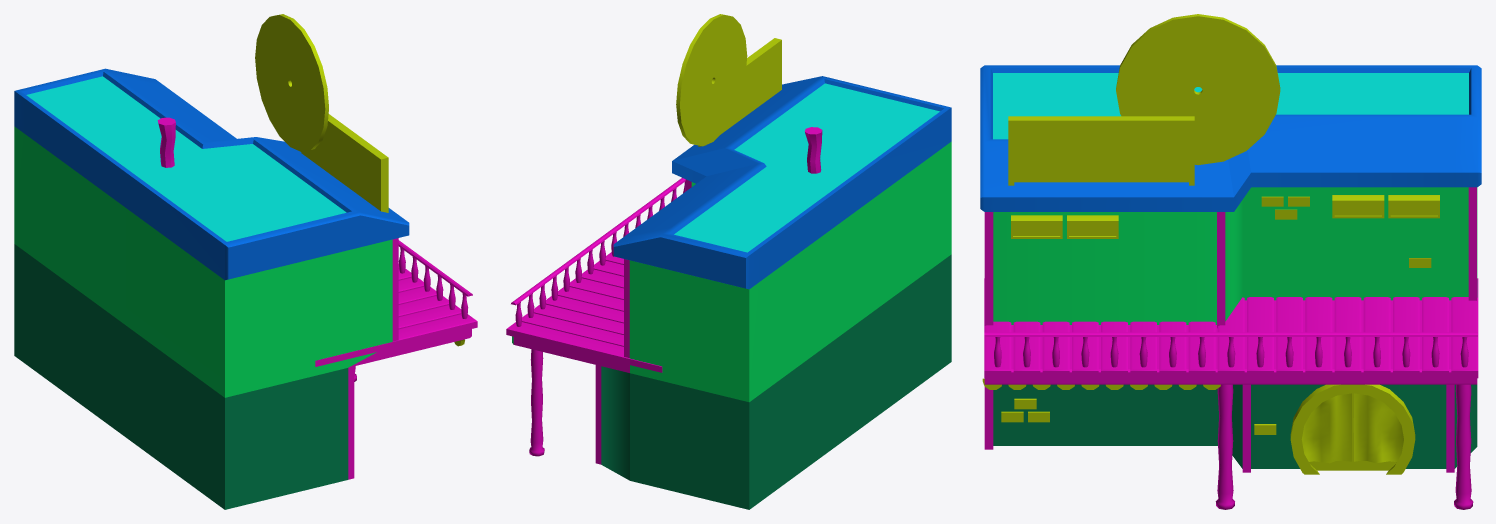
Rendered from BuildingB.fbx.
3 renders of one model, left to right at view 1: azimuth 30°, elevation 25°; view 2: azimuth 150°, elevation 25°; view 3: azimuth 270°, elevation 25°, orthographic. The views are drawn at different scales.
Parts seen in each view (by area): view 1: MasterBuilding_B, polySurface36; view 2: MasterBuilding_B, polySurface36; view 3: MasterBuilding_B, polySurface36.
Part boxes in pixels (<box>): MasterBuilding_B: <box>14,68,477,509</box>; polySurface36: <box>255,14,464,346</box>; MasterBuilding_B: <box>506,76,951,509</box>; polySurface36: <box>676,14,781,146</box>; MasterBuilding_B: <box>980,65,1481,509</box>; polySurface36: <box>982,14,1439,474</box>.
Bounding box in the file's own units: 32.67 × 47.69 × 47.94.
